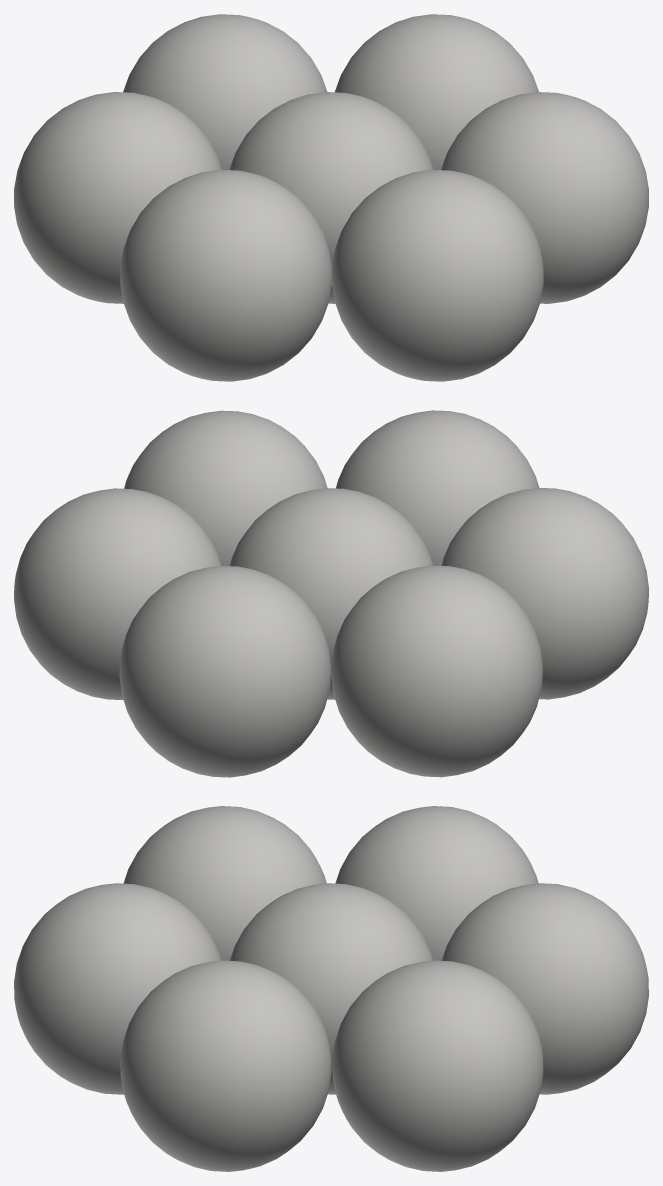
The model's file is mianxin1_1.FBX.
3 views of the same model, one above another, from view 1: azimuth 30°, elevation 25°; view 2: azimuth 150°, elevation 25°; view 3: azimuth 270°, elevation 25° (orthographic).
Visible parts, largest first — view 1: GeoSphere597; view 2: GeoSphere597; view 3: GeoSphere597.
Boxes of the visible parts, x1=… form: GeoSphere597: x1=14, y1=14, x2=648, y2=381; GeoSphere597: x1=14, y1=410, x2=648, y2=777; GeoSphere597: x1=14, y1=806, x2=648, y2=1171.
Size of the model in its own units: 109 by 40 by 120.
